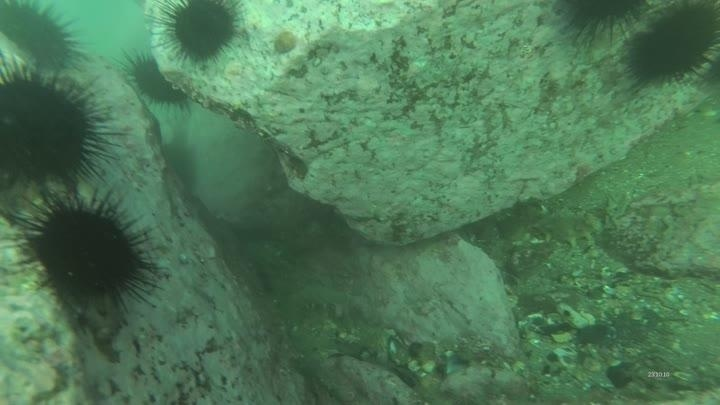echinus: (11, 187, 160, 319), (0, 61, 120, 194), (621, 2, 720, 89), (0, 1, 85, 76), (155, 1, 244, 66), (121, 50, 194, 113), (552, 1, 652, 45), (158, 140, 200, 197)
holothurian: (514, 204, 607, 251), (289, 282, 363, 318)
